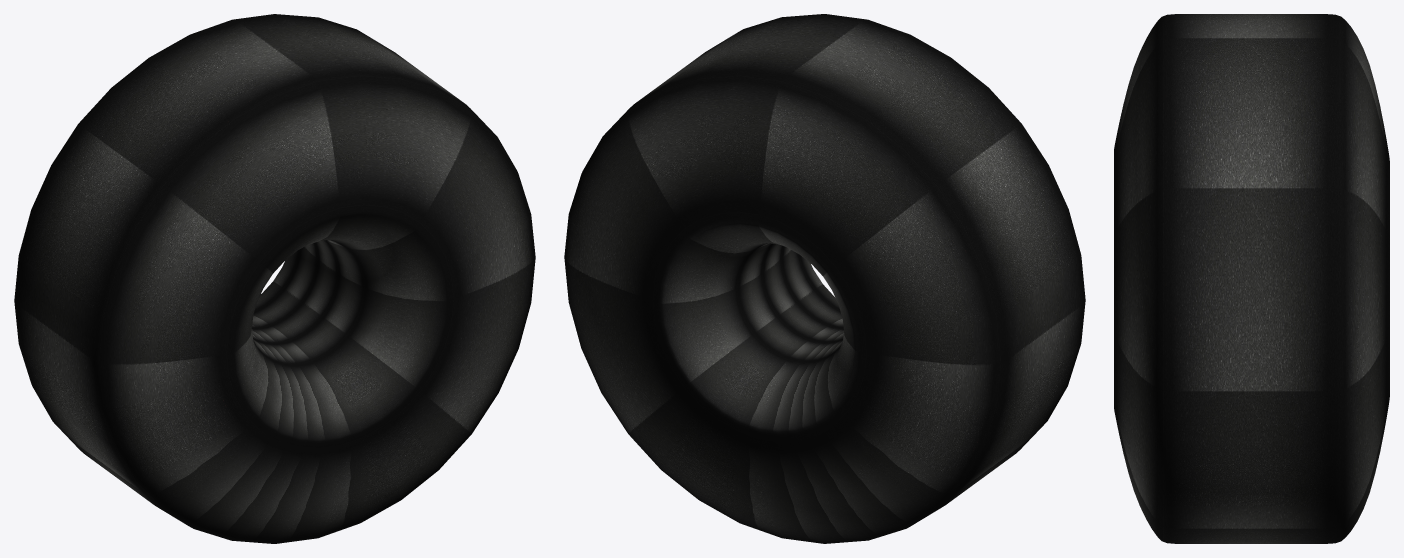
The picture shows the model from 3 angles, left to right: view 1: azimuth 30°, elevation 25°; view 2: azimuth 150°, elevation 25°; view 3: azimuth 270°, elevation 25°; orthographic projection. The views are drawn at different scales.
Visible parts, largest first — view 1: group31_group30_nurbsToPoly13; view 2: group31_group30_nurbsToPoly13; view 3: group31_group30_nurbsToPoly13.
Boxes of the visible parts, <box> form: group31_group30_nurbsToPoly13: <box>14,14,535,543</box>; group31_group30_nurbsToPoly13: <box>564,14,1085,543</box>; group31_group30_nurbsToPoly13: <box>1114,14,1389,543</box>.
Size of the model in its own units: 0.6149 by 0.615 by 0.3192.
